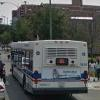buses: (7, 39, 90, 100)
